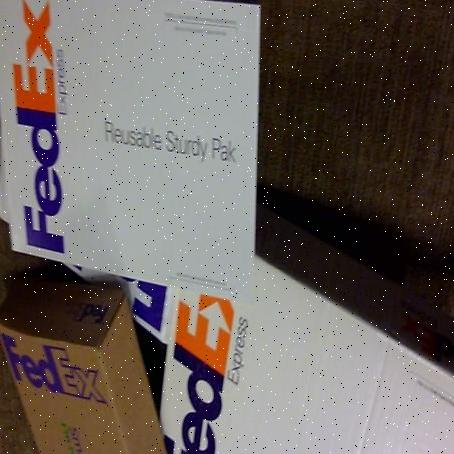Amazon: (0, 0, 269, 287), (155, 229, 453, 454), (0, 289, 141, 454)
